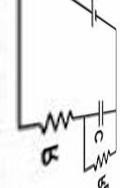resistor: (30, 107, 75, 134), (88, 149, 115, 170)
